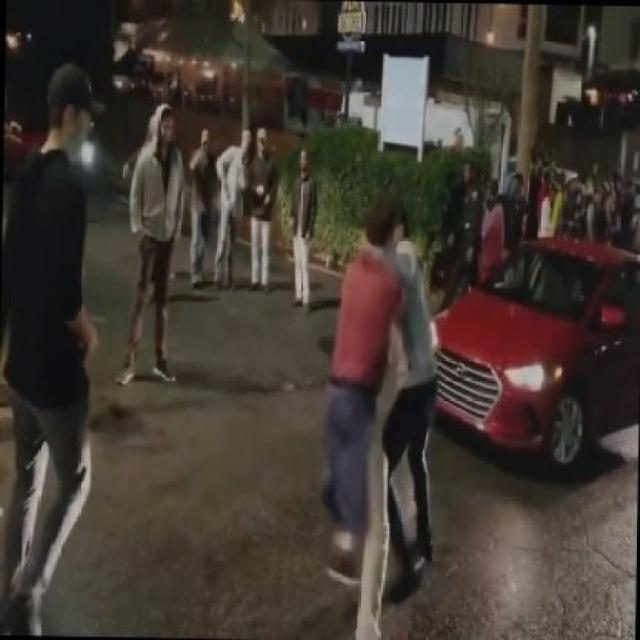fight: (312, 204, 445, 638)
non-fight: (0, 58, 103, 640), (123, 97, 183, 393)
